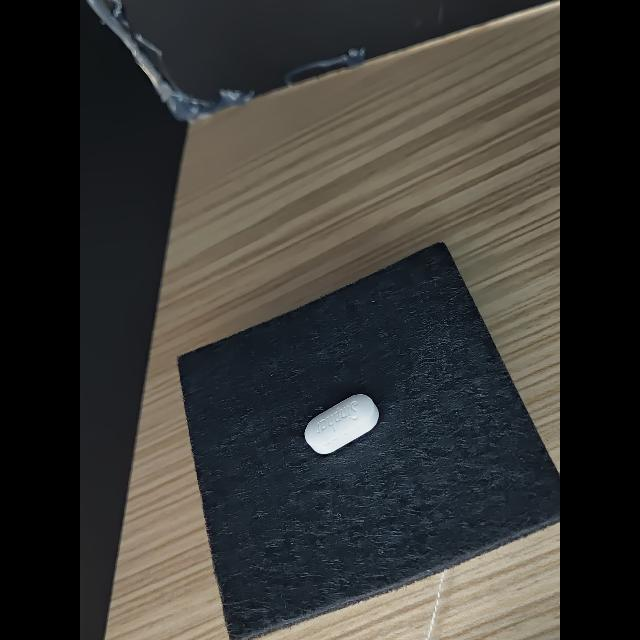Intact Pill: (304, 394, 379, 454)
